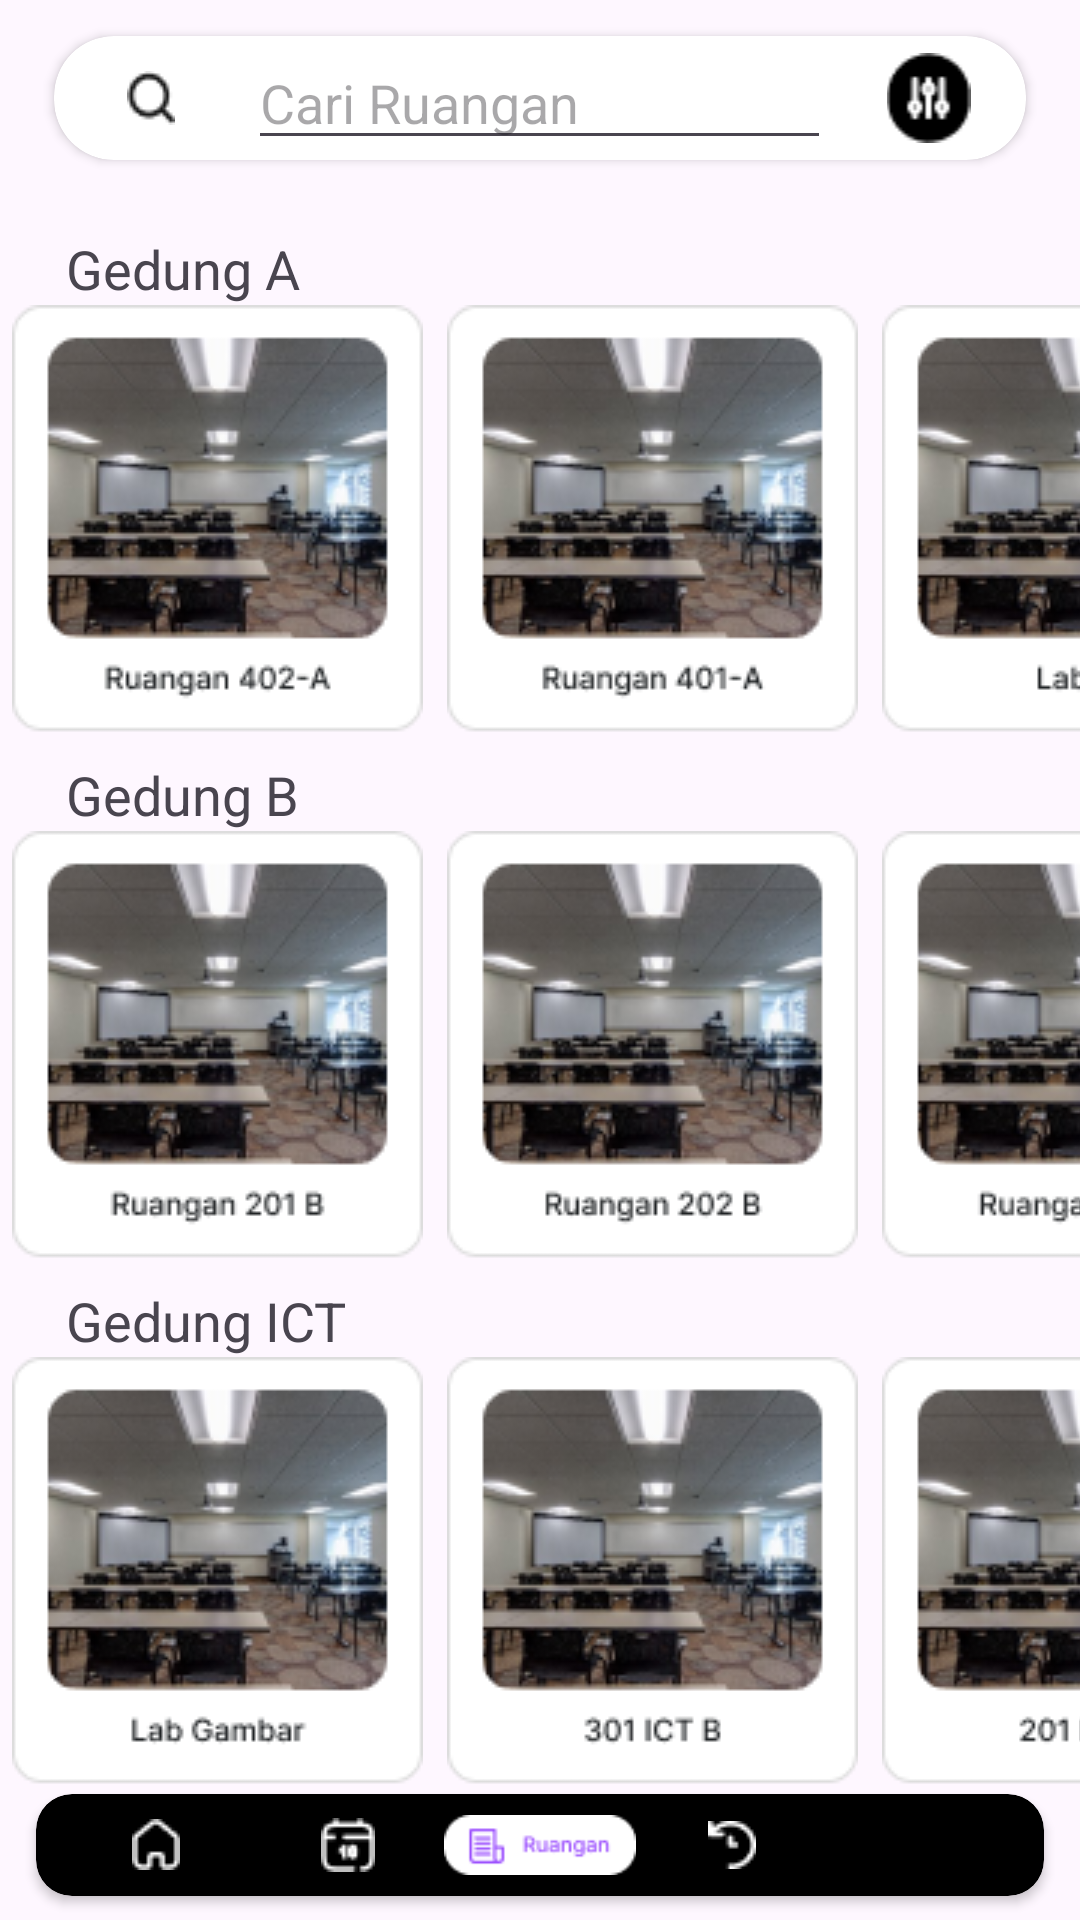

Point at icon controls on the screen. Image size 1080*1920, points as (x=x, y=y).
beranda off: (x=156, y=1844)
filter: (x=929, y=98)
history off: (x=732, y=1845)
kalender off: (x=348, y=1845)
search: (x=151, y=98)
